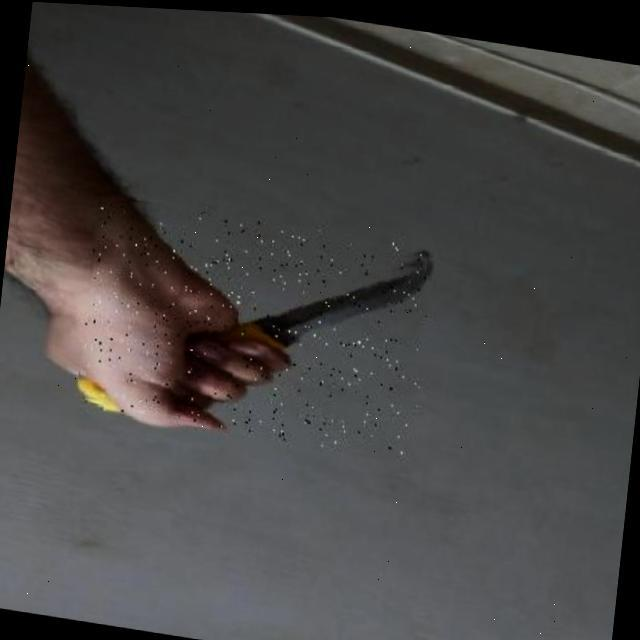knife: (76, 194, 433, 456)
